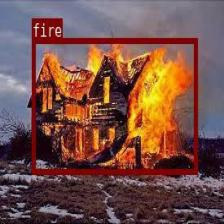fire: (31, 37, 196, 173)
